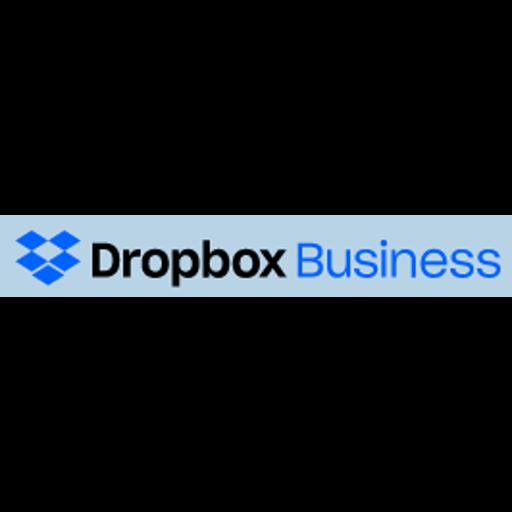Dropbox: (0, 215, 512, 297)
